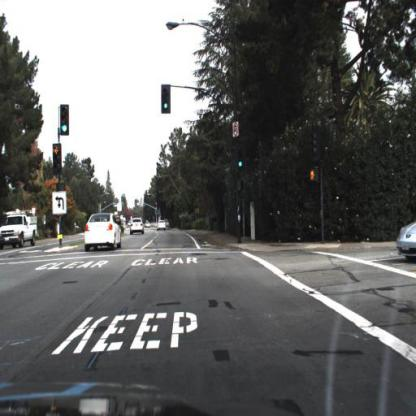car: (81, 209, 125, 255), (1, 210, 39, 252), (129, 217, 147, 238), (156, 216, 170, 237)
trafficLight-Green: (59, 101, 71, 139), (161, 82, 173, 115), (235, 148, 246, 173), (162, 96, 172, 116), (59, 121, 72, 135), (237, 157, 245, 174)
trafficLight-Red: (310, 168, 320, 184)
